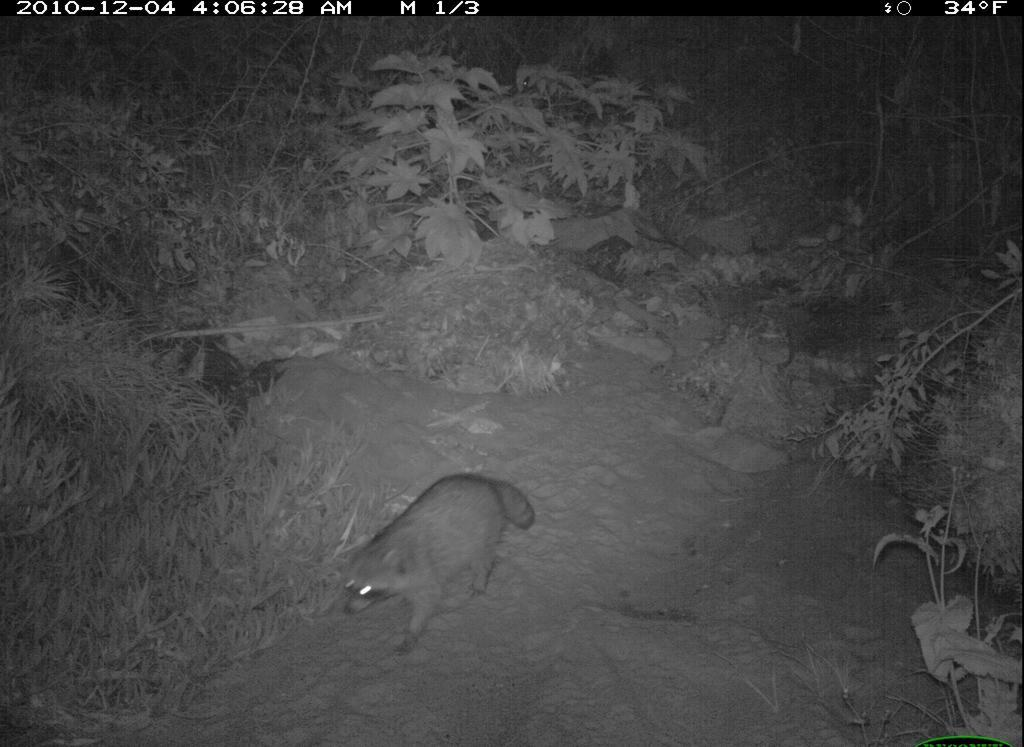raccoon: (337, 465, 546, 655)
